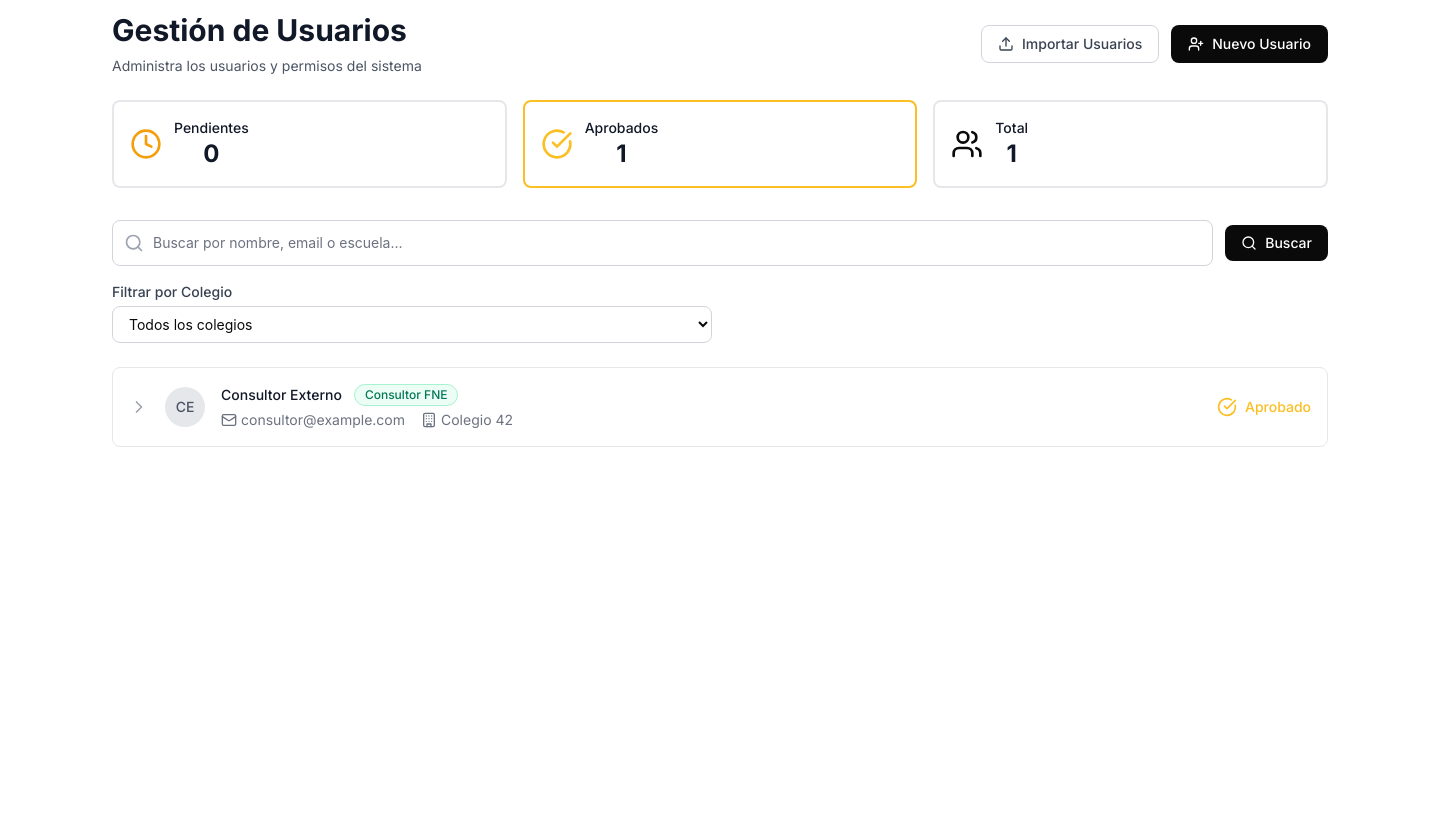
Test case: UnifiedUserManagement — ED-scoped props › default (no hide props): consultor user shows Asignar Estudiantes
Click the heading "Consultor Externo". click: coordinates (281, 395)
box: [221,385,342,405]
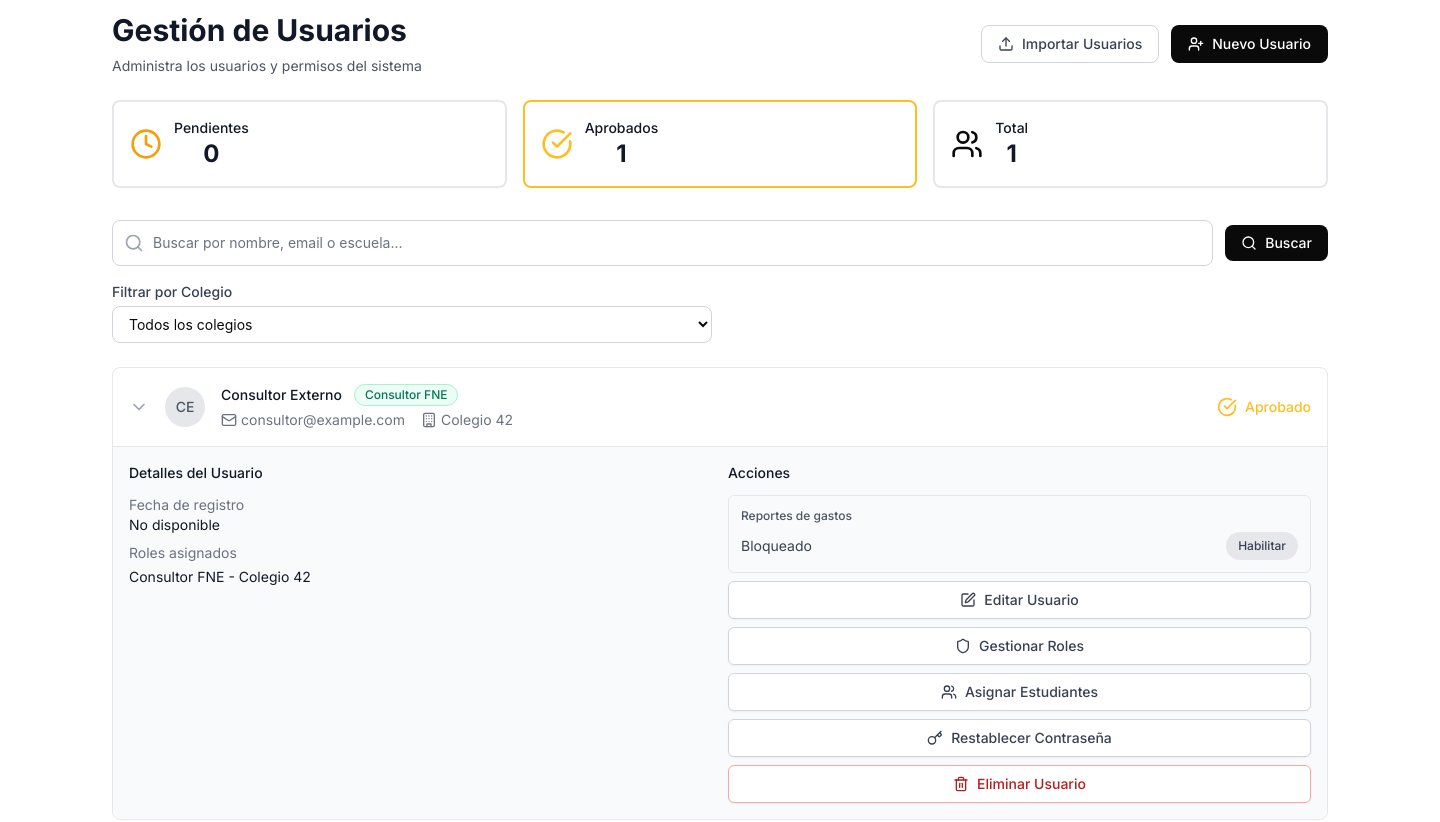
Now the button "Asignar Estudiantes" is shown, box [728,673,1311,711]
